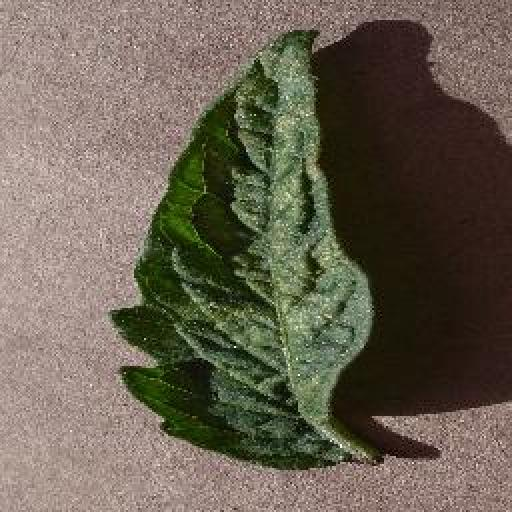disease_tomato: (113, 30, 375, 470)
